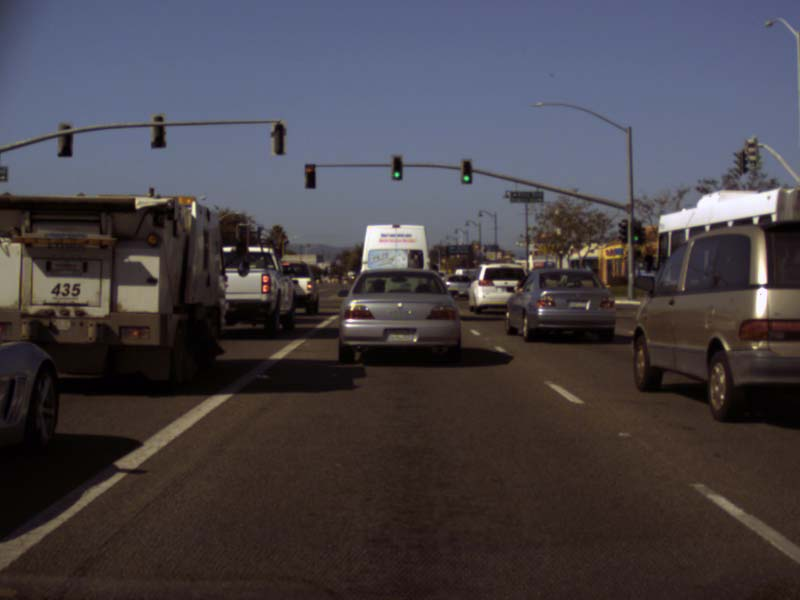Green: (461, 159, 470, 183), (392, 156, 401, 179), (631, 223, 640, 243)
Red: (305, 164, 314, 187)
